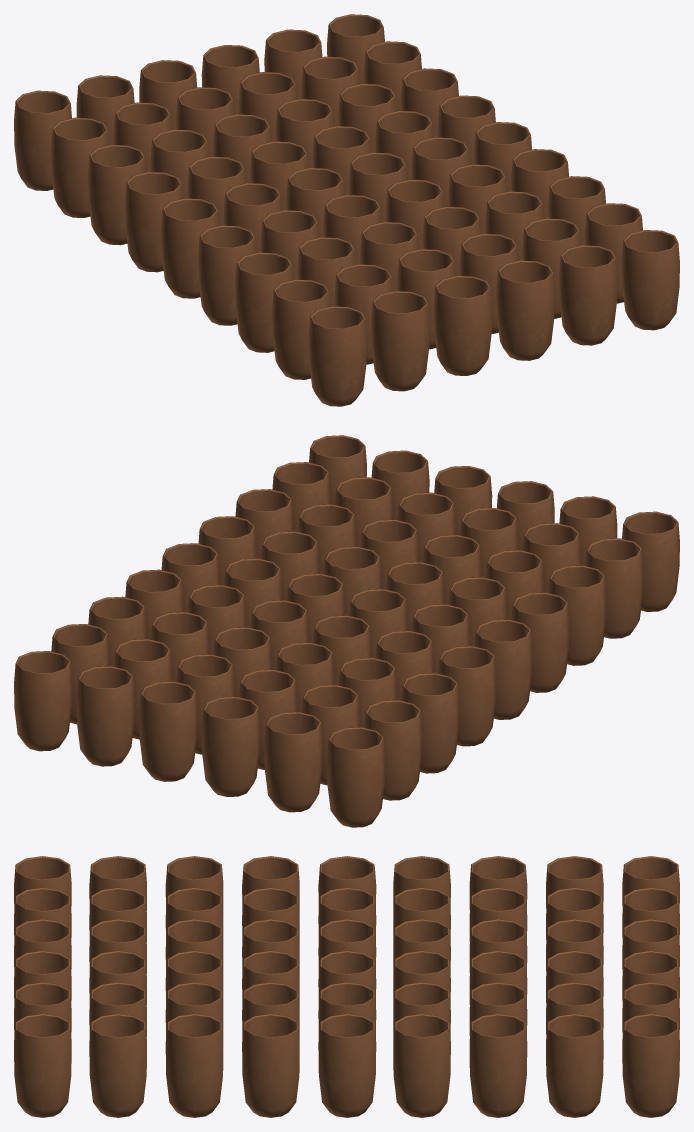
The model's file is CupGroup.fbx.
3 views of the same model, one above another, from view 1: azimuth 30°, elevation 25°; view 2: azimuth 150°, elevation 25°; view 3: azimuth 270°, elevation 25° (orthographic). The views are drawn at different scales.
Visible parts, largest first — view 1: Cup32, Cup34, Cup31, Cup35, Cup36, Cup33, Cup37, Cup48, Cup54, Cup, Cup11, Cup17 (+42 smaller); view 2: Cup1, Cup3, Cup, Cup4, Cup5, Cup2, Cup54, Cup60, Cup48, Cup11, Cup17, Cup23 (+42 smaller); view 3: Cup43, Cup49, Cup12, Cup18, Cup5, Cup36, Cup6, Cup42, Cup55, Cup14, Cup51, Cup16 (+42 smaller).
Boxes of the visible parts, x1,y1,x2,y2 form: Cup32: [371, 291, 429, 391]; Cup34: [496, 260, 554, 360]; Cup31: [308, 306, 366, 406]; Cup35: [559, 245, 617, 345]; Cup36: [621, 230, 679, 330]; Cup33: [433, 275, 492, 375]; Cup37: [161, 198, 218, 298]; Cup48: [198, 225, 255, 325]; Cup54: [235, 252, 292, 352]; Cup: [14, 90, 71, 190]; Cup11: [51, 117, 108, 217]; Cup17: [88, 144, 145, 245]; Cup1: [264, 712, 322, 812]; Cup3: [139, 681, 197, 781]; Cup: [327, 727, 385, 827]; Cup4: [76, 666, 134, 766]; Cup5: [14, 651, 72, 751]; Cup2: [201, 696, 260, 796]; Cup54: [548, 565, 606, 665]; Cup60: [585, 538, 643, 638]; Cup48: [511, 592, 569, 692]; Cup11: [364, 700, 422, 800]; Cup17: [401, 673, 459, 773]; Cup23: [438, 646, 496, 746]; Cup43: [242, 1014, 299, 1117]; Cup49: [165, 1013, 223, 1117]; Cup12: [469, 1013, 527, 1117]; Cup18: [393, 1014, 450, 1117]; Cup5: [622, 1014, 679, 1117]; Cup36: [14, 1014, 71, 1117]; Cup6: [546, 1014, 603, 1117]; Cup42: [318, 1013, 376, 1117]; Cup55: [89, 1013, 146, 1117]; Cup14: [469, 950, 527, 1004]; Cup51: [165, 950, 223, 1006]; Cup16: [469, 887, 527, 941].
Bounding box in the file's own units: 23.32 × 5.03 × 35.8.
